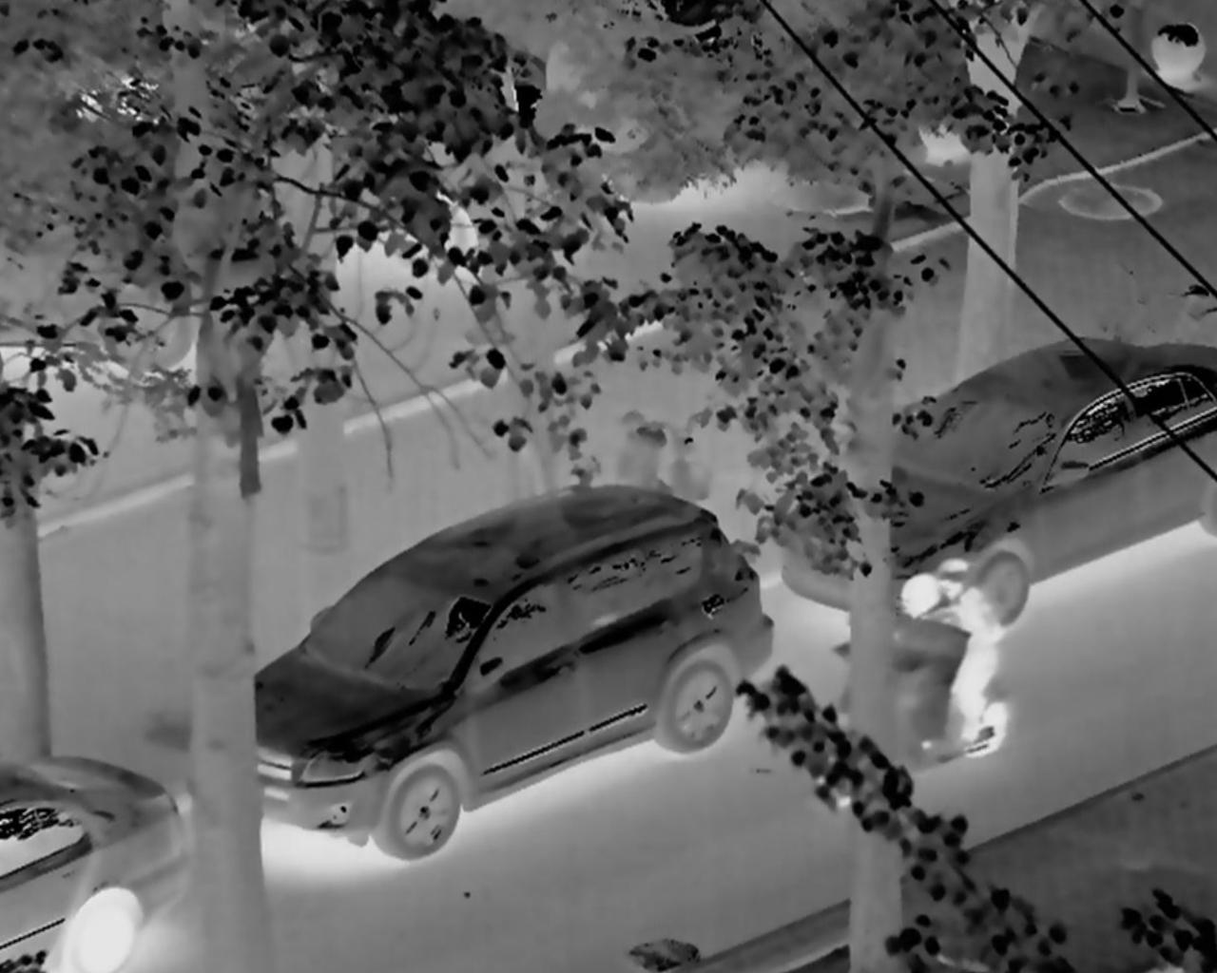person: (870, 545, 1050, 800)
